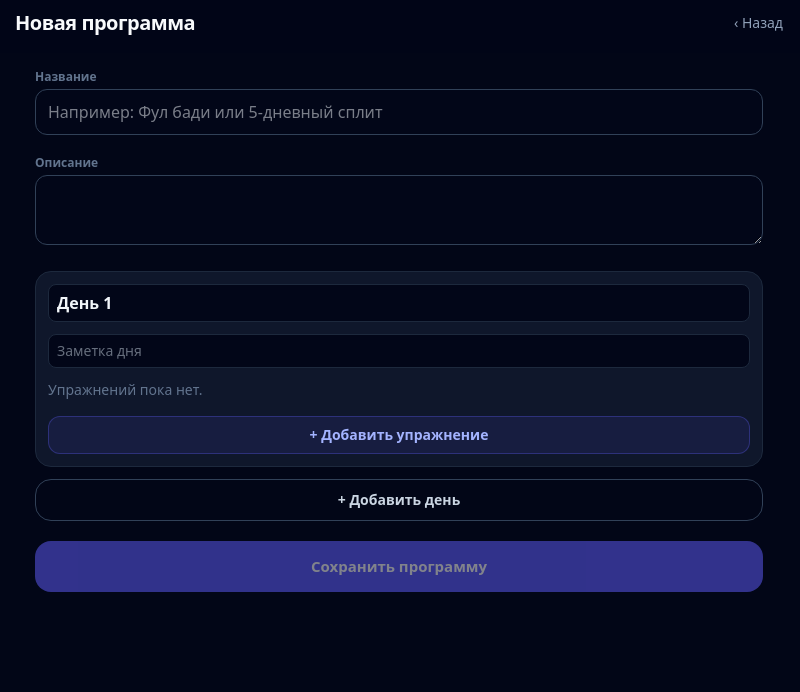
Test: ProgramBuilderPage › добавляет второй день для сплита
Click the button "+ Добавить день". click: (399, 500)
box: x1=35 y1=479 x2=763 y2=521
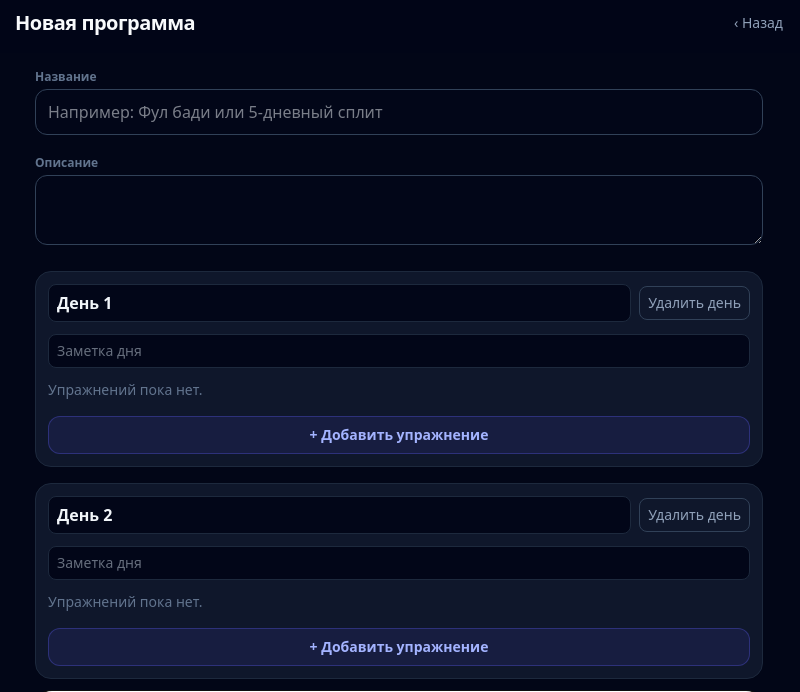
expect the field named "Название дня 2" is shown: met, box x1=48 y1=496 x2=631 y2=534
